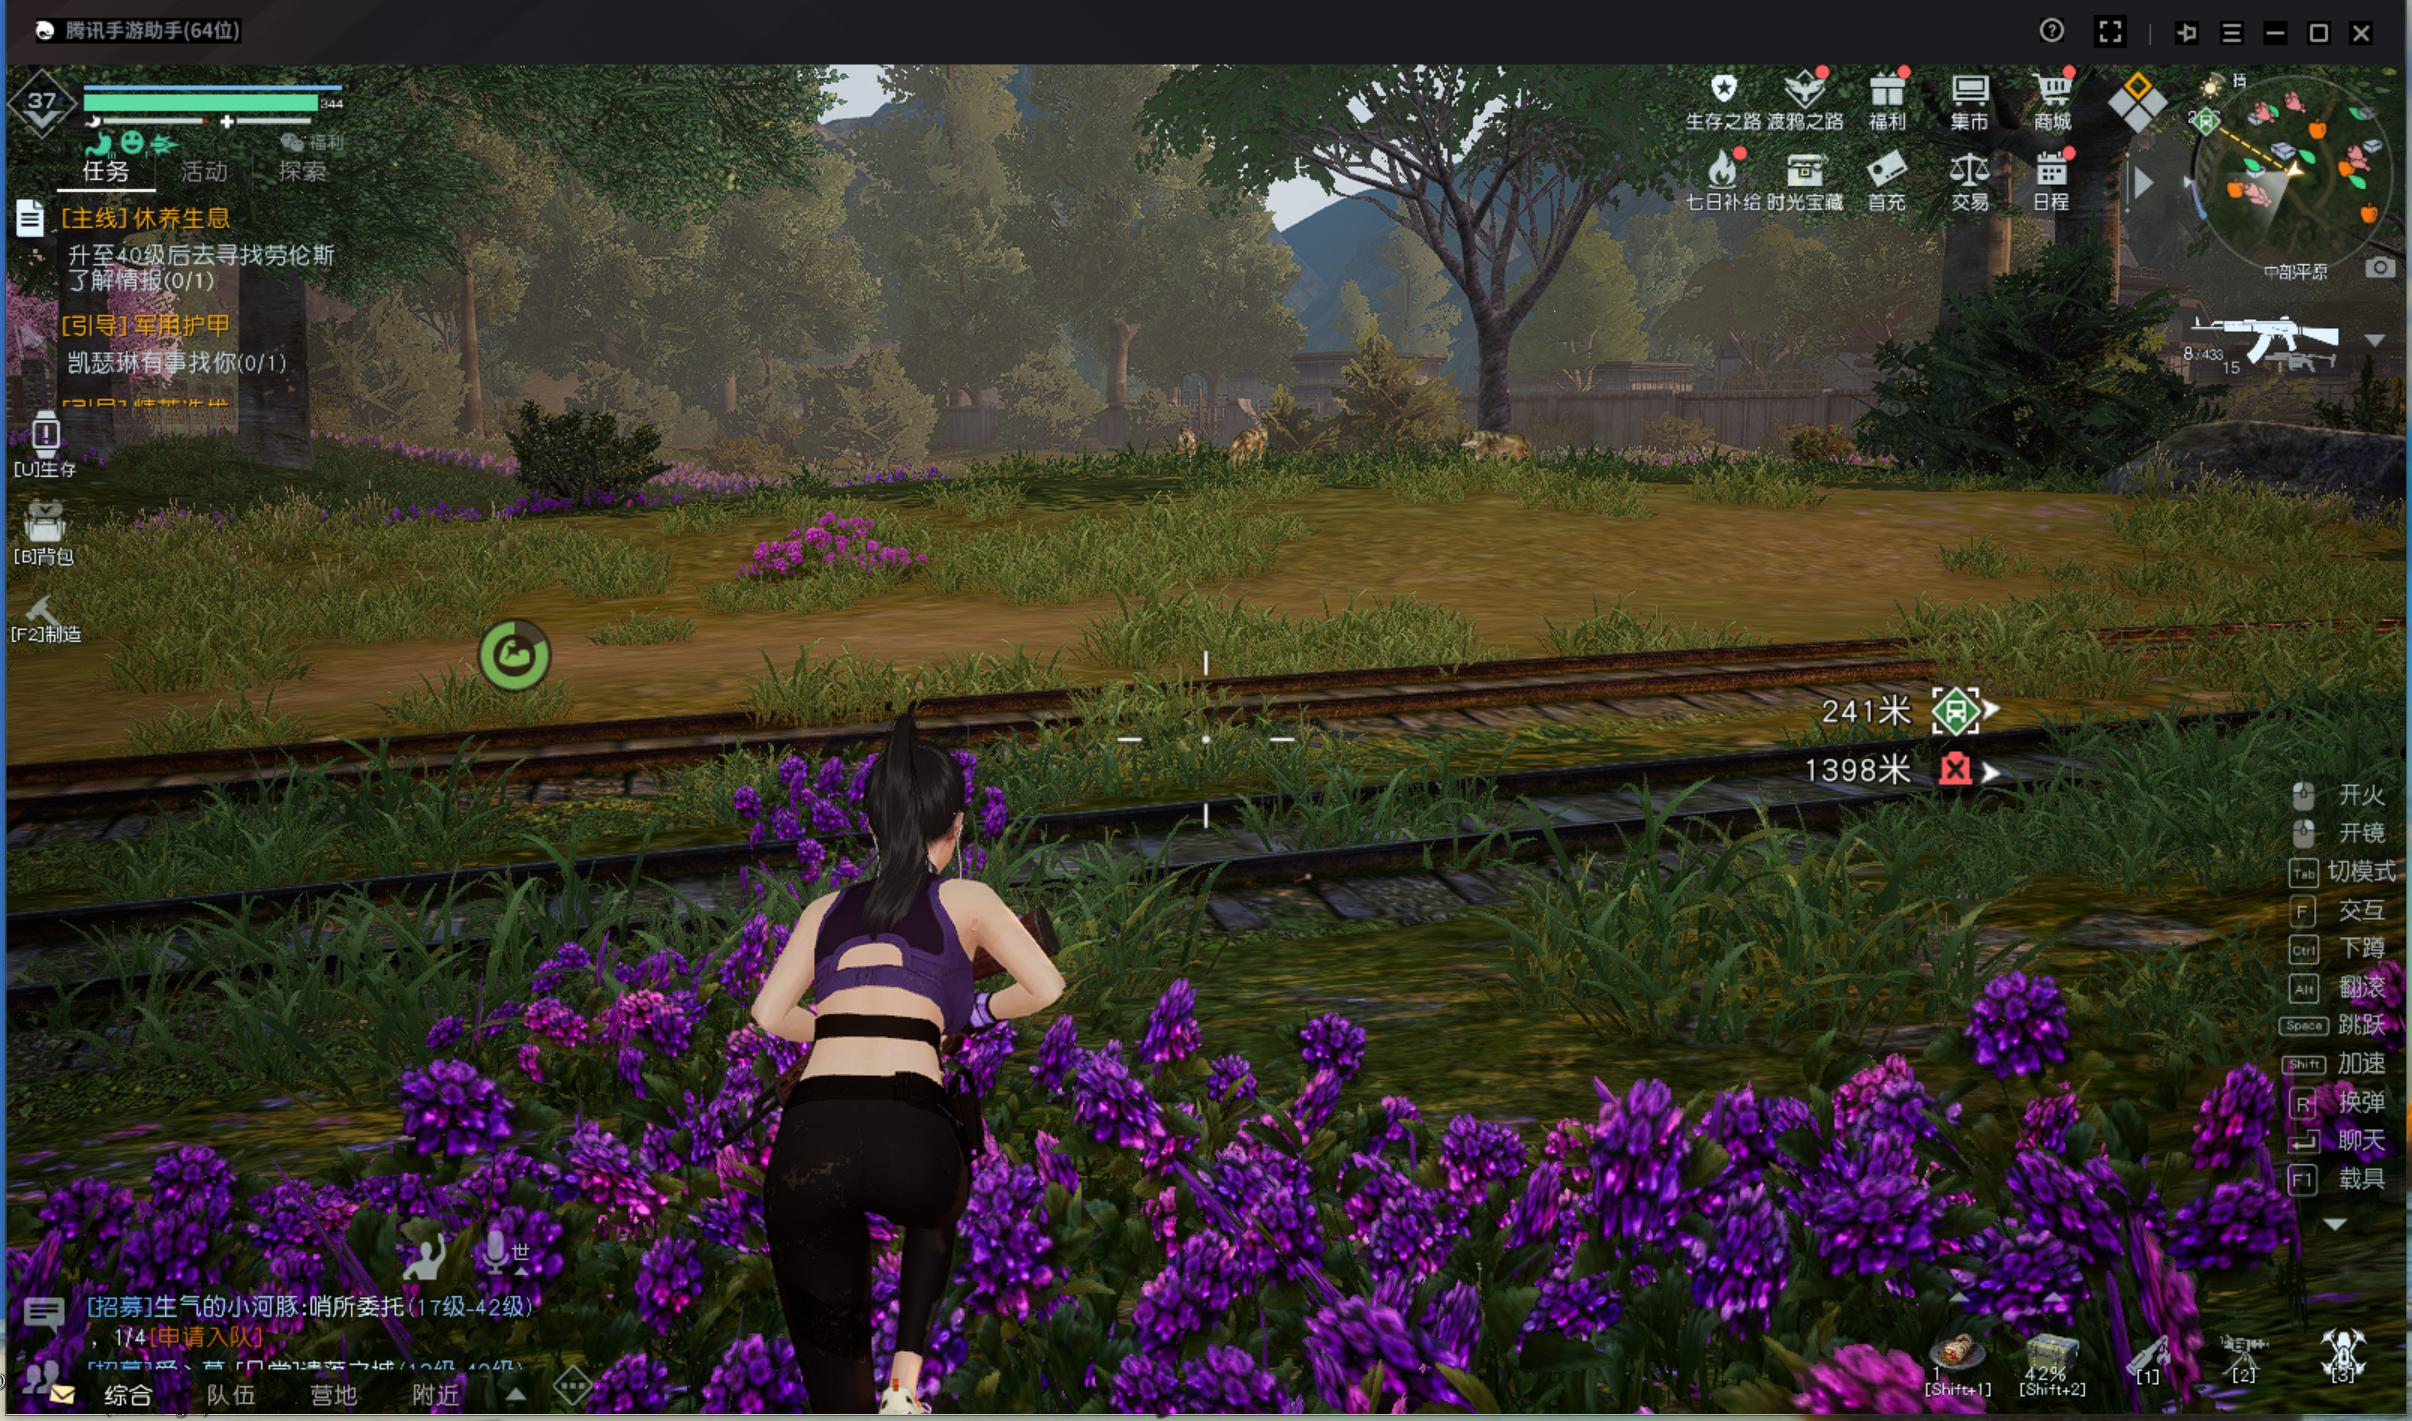tree: (1928, 237, 2018, 467), (233, 272, 321, 475), (453, 281, 496, 448), (1472, 321, 1517, 452), (1103, 333, 1133, 426)
